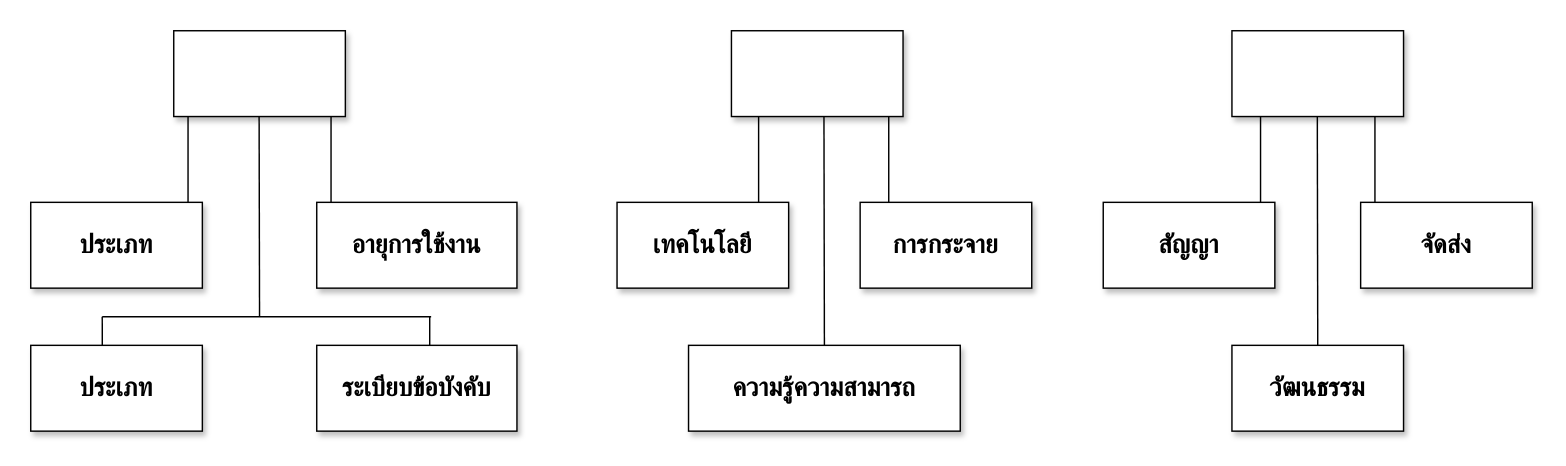
This 1566x466 diagram has some shape labels left out. The shapes that lost their labels are listed below. From the top down, each one's centre as x and y in pixels, then its label:
At pixel 260 75: "ระบบ".
At pixel 818 75: "ทีม".
At pixel 1318 75: "องค์กร".
